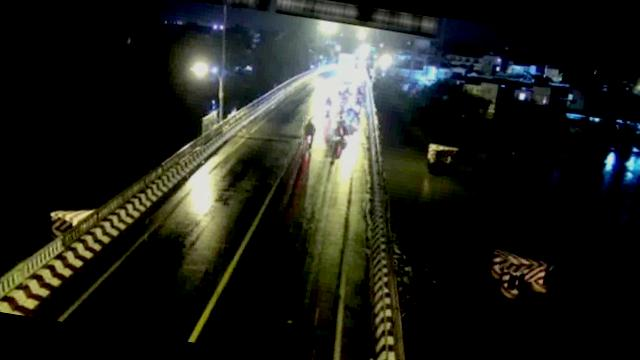Bike: (299, 116, 316, 149), (332, 114, 351, 142)
